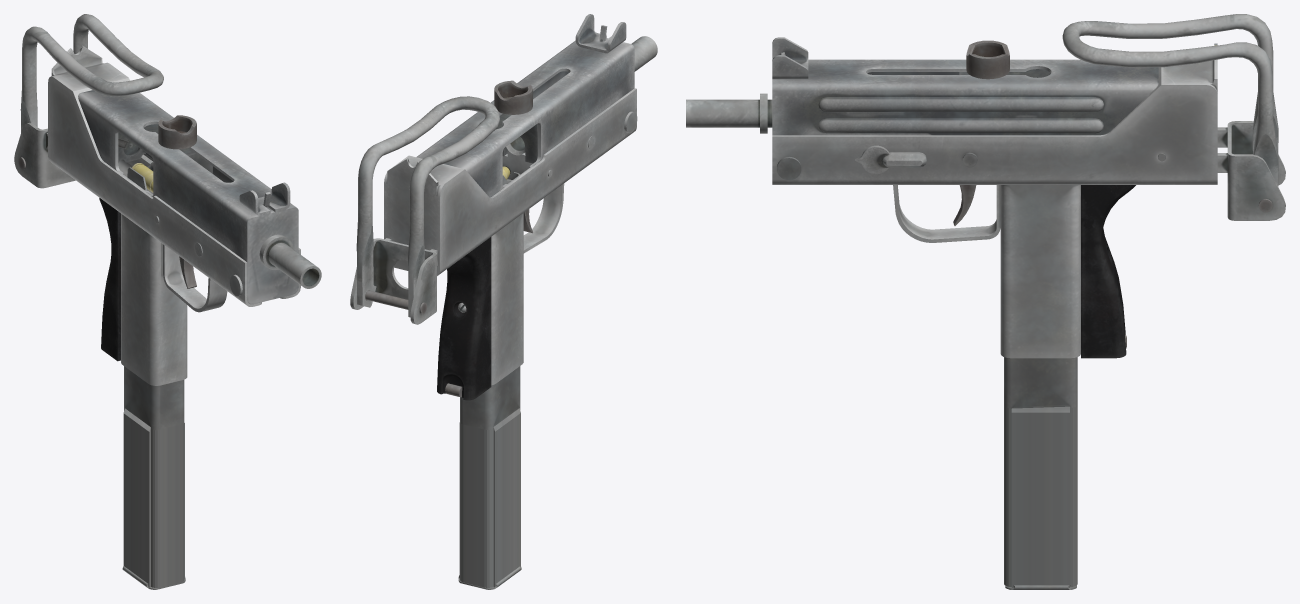
3 views of the same model, side by side, from view 1: azimuth 30°, elevation 25°; view 2: azimuth 150°, elevation 25°; view 3: azimuth 270°, elevation 25° (orthographic). The views are drawn at different scales.
Parts seen in each view (by area): view 1: Main, Mag, Stock Frame, Stock Arm, Bolt; view 2: Main, Mag, Stock Frame, Stock Arm, Bolt; view 3: Main, Mag, Stock Frame, Stock Arm, Bolt, Safety.
Part boxes in pixels (x1,y1,x2,y2): Main: [48, 45, 321, 385]; Mag: [122, 162, 185, 589]; Stock Frame: [20, 14, 163, 132]; Stock Arm: [14, 122, 152, 188]; Bolt: [118, 115, 212, 173]; Main: [384, 14, 657, 400]; Mag: [458, 172, 521, 589]; Stock Frame: [356, 96, 499, 317]; Stock Arm: [350, 152, 525, 324]; Bolt: [494, 80, 537, 163]; Main: [686, 37, 1217, 358]; Mag: [1004, 357, 1077, 589]; Stock Frame: [1062, 14, 1278, 186]; Stock Arm: [1217, 121, 1285, 220]; Bolt: [959, 40, 1050, 79]; Safety: [855, 145, 926, 174].
Bounding box in the file's own units: 0.7092 × 4.79 × 4.72.
1 material, 1 textured.
